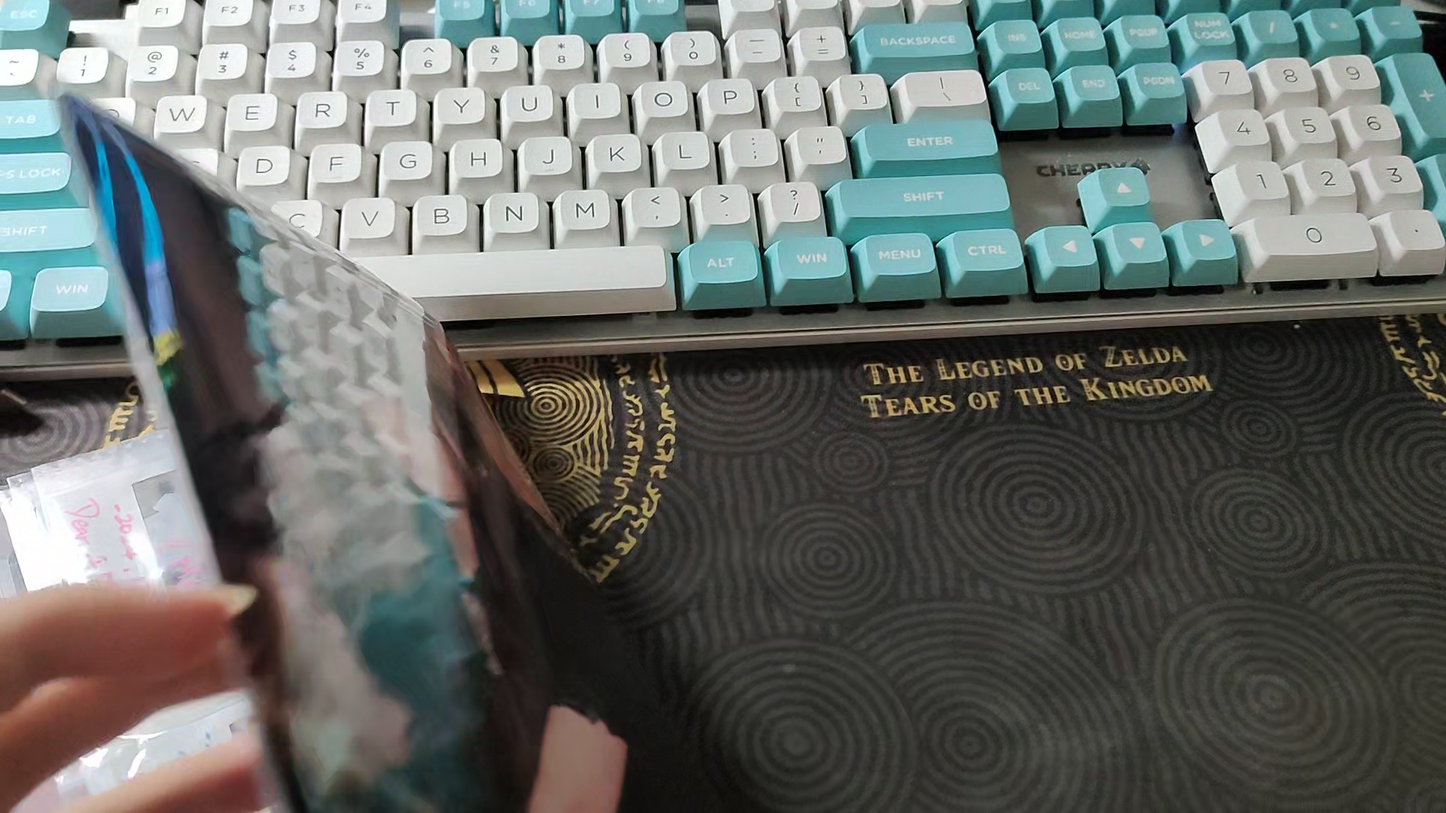Photo_book: (0, 93, 659, 813)
